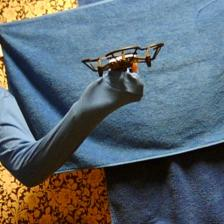drone: (81, 42, 165, 78)
